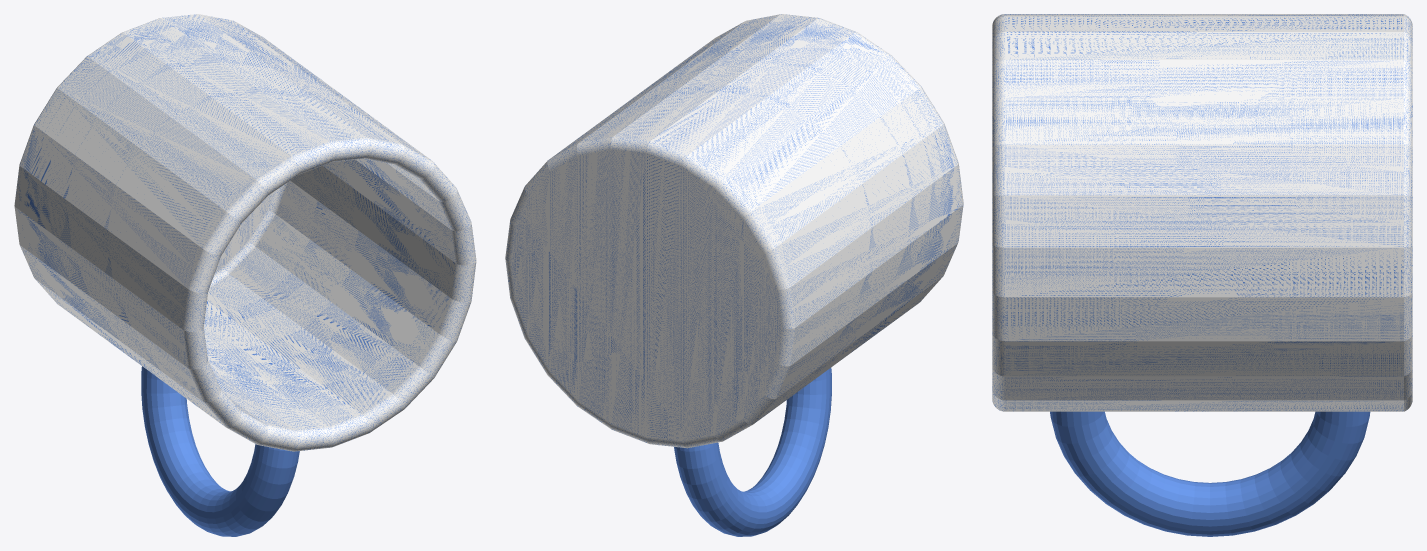
3 renders of one model, left to right at view 1: azimuth 30°, elevation 25°; view 2: azimuth 150°, elevation 25°; view 3: azimuth 270°, elevation 25°, orthographic. The views are drawn at different scales.
Parts seen in each view (by area): view 1: mug; view 2: mug; view 3: mug.
Boxes of the visible parts, left/top/right/bottom form: mug: left=14, top=14, right=476, bottom=536; mug: left=505, top=14, right=963, bottom=536; mug: left=992, top=14, right=1412, bottom=536.
Size of the model in its own units: 79.37 by 114 by 83.62.
